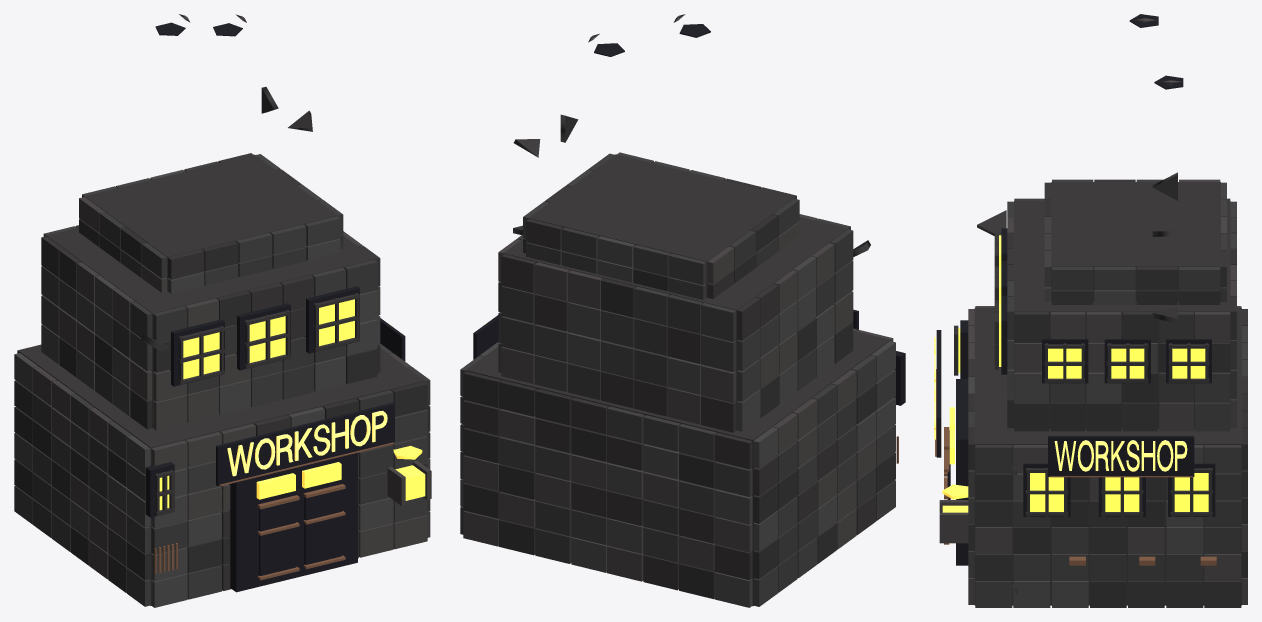
File: workshop_lod1.glb
The picture shows the model from 3 angles, left to right: view 1: azimuth 30°, elevation 25°; view 2: azimuth 150°, elevation 25°; view 3: azimuth 270°, elevation 25°; orthographic projection. The views are drawn at different scales.
Visible parts, largest first — view 1: PBR surface 1, Amber emissive glass, WORKSHOP 3D neon; view 2: PBR surface 1; view 3: PBR surface 1, Amber emissive glass, WORKSHOP 3D neon.
Part boxes in pixels (x1,y1,x2,y2): PBR surface 1: [14, 14, 431, 607]; Amber emissive glass: [159, 299, 425, 510]; WORKSHOP 3D neon: [227, 323, 389, 476]; PBR surface 1: [460, 14, 905, 607]; PBR surface 1: [935, 14, 1247, 607]; Amber emissive glass: [942, 235, 1208, 512]; WORKSHOP 3D neon: [934, 337, 1187, 471].
Size of the model in its own units: 6.36 by 10.1 by 5.63.
3 materials, 3 textured.
